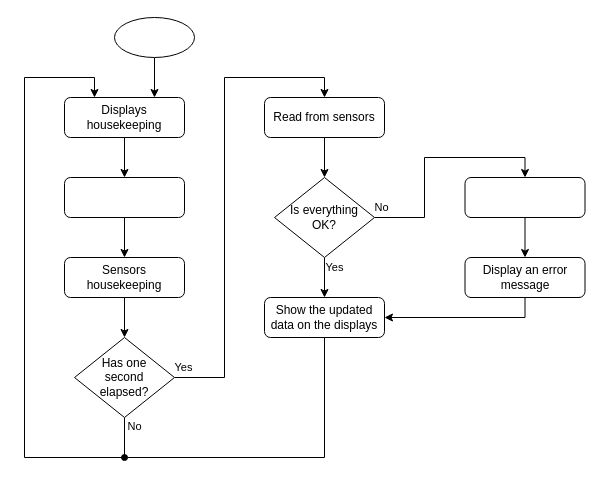
Some shapes in this 603 by 483 pixel diagram are drawn without their labels. The shapes that lost their labels are listed below. From the top down, each one's box as (x1, y1, x2, y2) in pixels, then its label:
(114, 16, 194, 58): Start
(64, 176, 184, 218): Button input housekeeping
(464, 176, 585, 218): Shut down the engine
